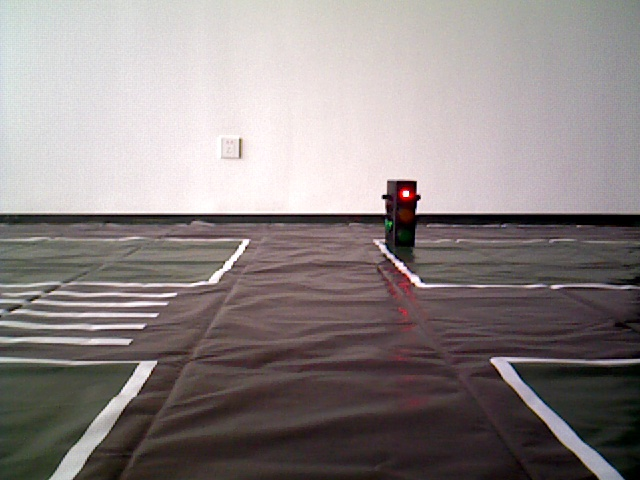red: (384, 178, 415, 250)
